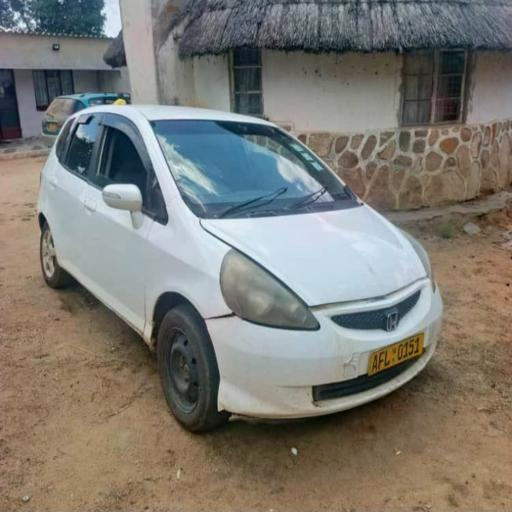number-plates: (368, 338, 424, 372)
